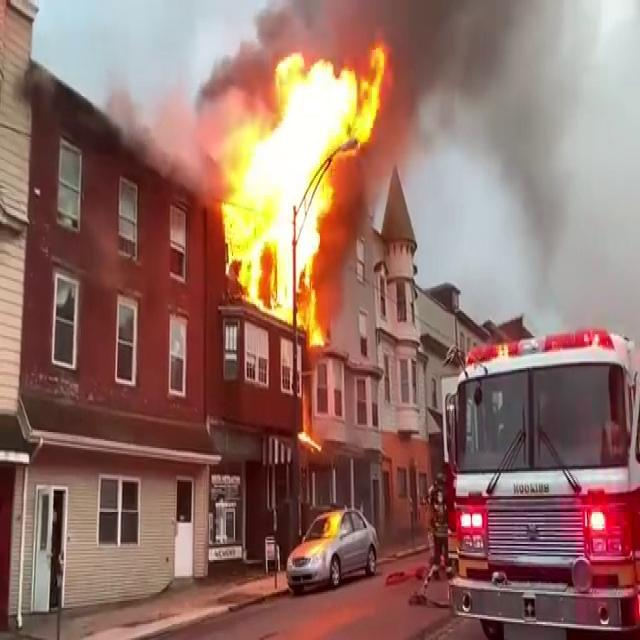Fire: (207, 30, 386, 332)
Smoke: (378, 0, 640, 347)
